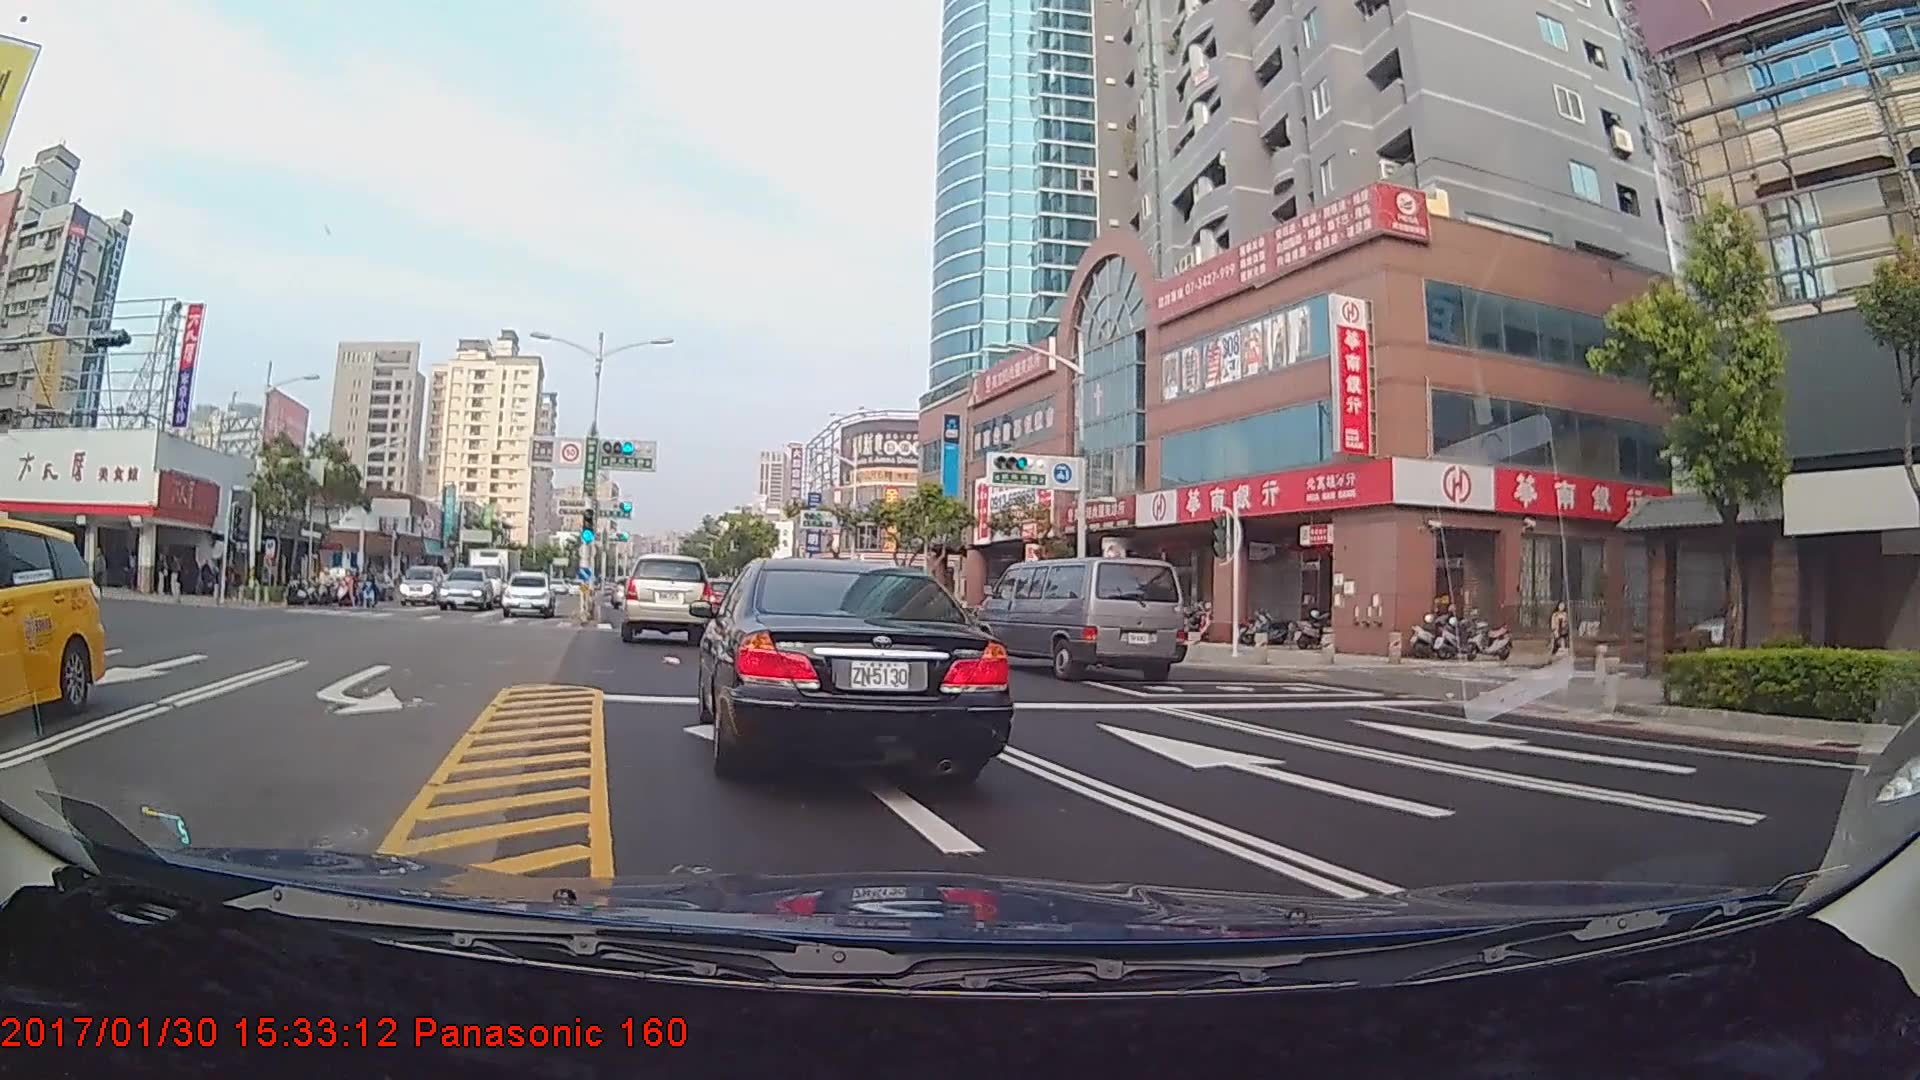pedestrian: (1551, 600, 1572, 663), (90, 546, 112, 605), (168, 552, 188, 600), (153, 550, 173, 599)
vehicle: (704, 548, 1007, 779), (976, 556, 1183, 682), (1, 517, 104, 736), (616, 552, 712, 647), (472, 543, 526, 605), (438, 566, 496, 612), (503, 572, 555, 618), (398, 564, 449, 608)
